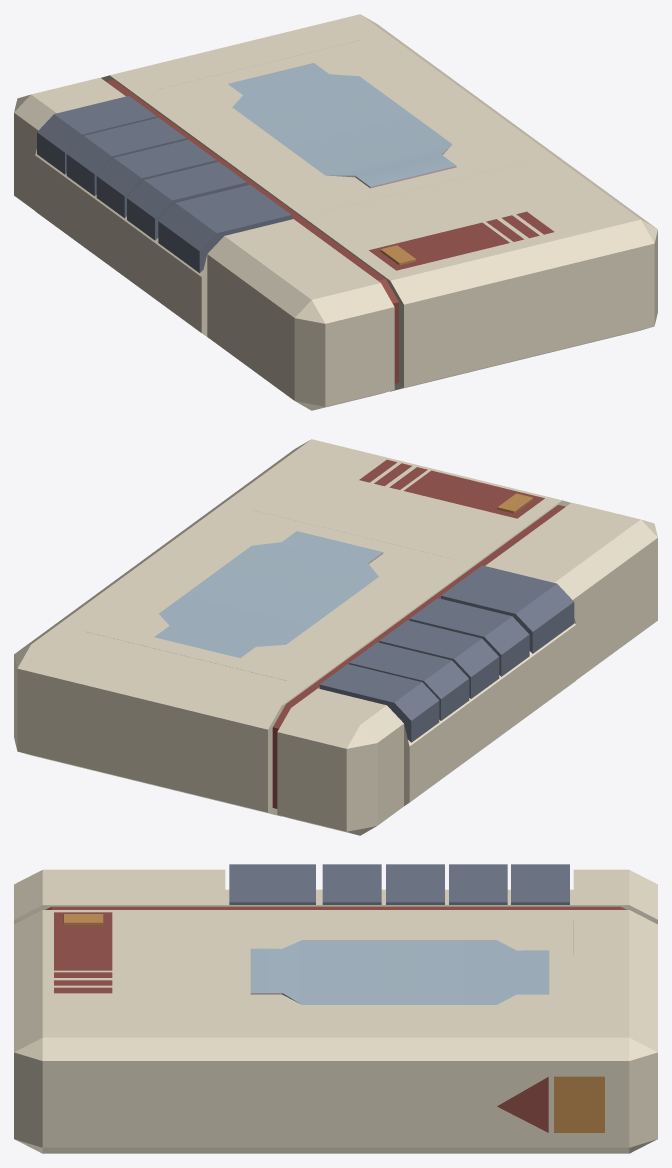
The model's file is TapeRecorder.FBX.
3 views of the same model, one above another, from view 1: azimuth 30°, elevation 25°; view 2: azimuth 150°, elevation 25°; view 3: azimuth 270°, elevation 25° (orthographic). The views are drawn at different scales.
Visible parts, largest first — view 1: TapePlayerBase, TapePlayer_Door, TapePLayerButton5, TapePLayerButton4, TapePLayerButton3, TapePLayerbutton2, TapePLayerbutton1; view 2: TapePlayerBase, TapePlayer_Door, TapePLayerButton5, TapePLayerbutton1, TapePLayerButton4, TapePLayerButton3, TapePLayerbutton2; view 3: TapePlayerBase, TapePlayer_Door, TapePLayerButton5, TapePLayerButton4, TapePLayerButton3, TapePLayerbutton2, TapePLayerbutton1.
Boxes of the visible parts, bbox=[...] form: TapePlayerBase: bbox=[14, 14, 657, 410]; TapePlayer_Door: bbox=[158, 40, 525, 211]; TapePLayerButton5: bbox=[158, 185, 291, 273]; TapePLayerButton4: bbox=[127, 162, 246, 240]; TapePLayerButton3: bbox=[96, 139, 216, 218]; TapePLayerbutton2: bbox=[66, 117, 186, 196]; TapePLayerbutton1: bbox=[37, 96, 156, 174]; TapePlayerBase: bbox=[14, 439, 657, 835]; TapePlayer_Door: bbox=[85, 510, 453, 680]; TapePLayerButton5: bbox=[441, 565, 574, 653]; TapePLayerbutton1: bbox=[319, 664, 439, 742]; TapePLayerButton4: bbox=[409, 598, 529, 676]; TapePLayerButton3: bbox=[379, 620, 499, 698]; TapePLayerbutton2: bbox=[349, 642, 469, 720]; TapePlayerBase: bbox=[14, 869, 657, 1153]; TapePlayer_Door: bbox=[225, 920, 573, 1023]; TapePLayerButton5: bbox=[229, 864, 315, 904]; TapePLayerButton4: bbox=[322, 864, 381, 904]; TapePLayerButton3: bbox=[386, 864, 444, 904]; TapePLayerbutton2: bbox=[449, 864, 507, 904]; TapePLayerbutton1: bbox=[511, 864, 569, 904].
Size of the model in its own units: 40.59 by 12.23 by 58.61.
